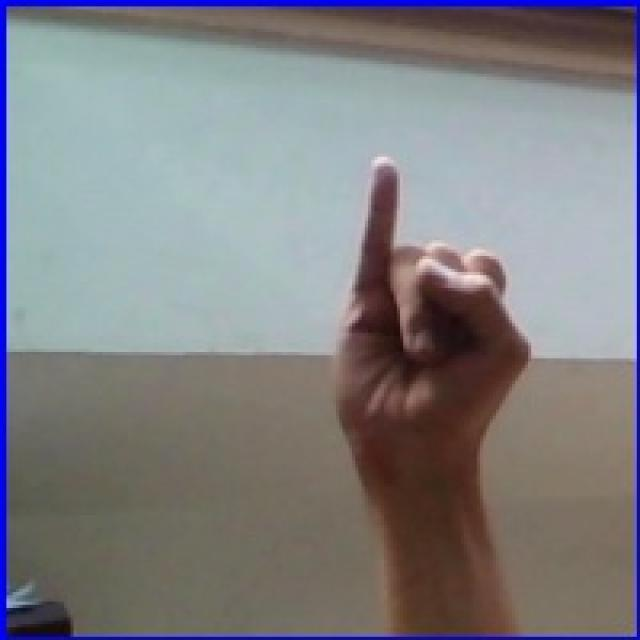Letra I: (306, 131, 546, 508)
